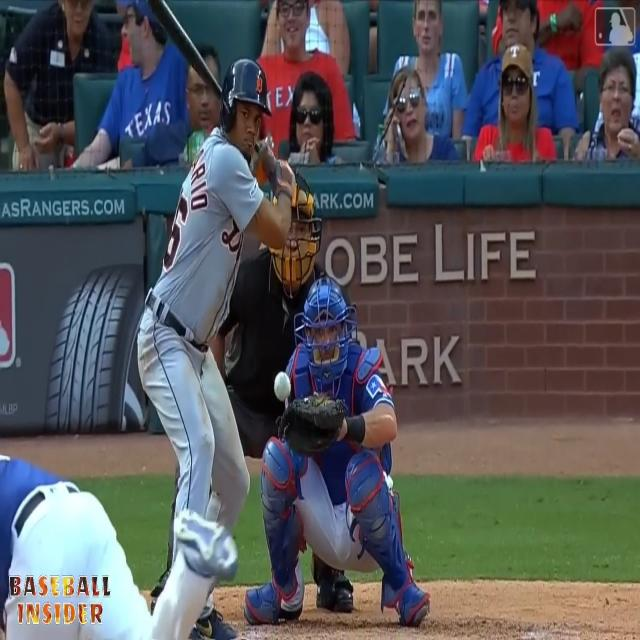baseball: (274, 371, 292, 403)
